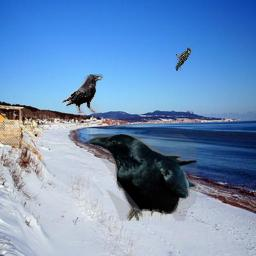Crow: (88, 134, 197, 221), (61, 74, 103, 114)
Woodpecker: (175, 45, 191, 71)
